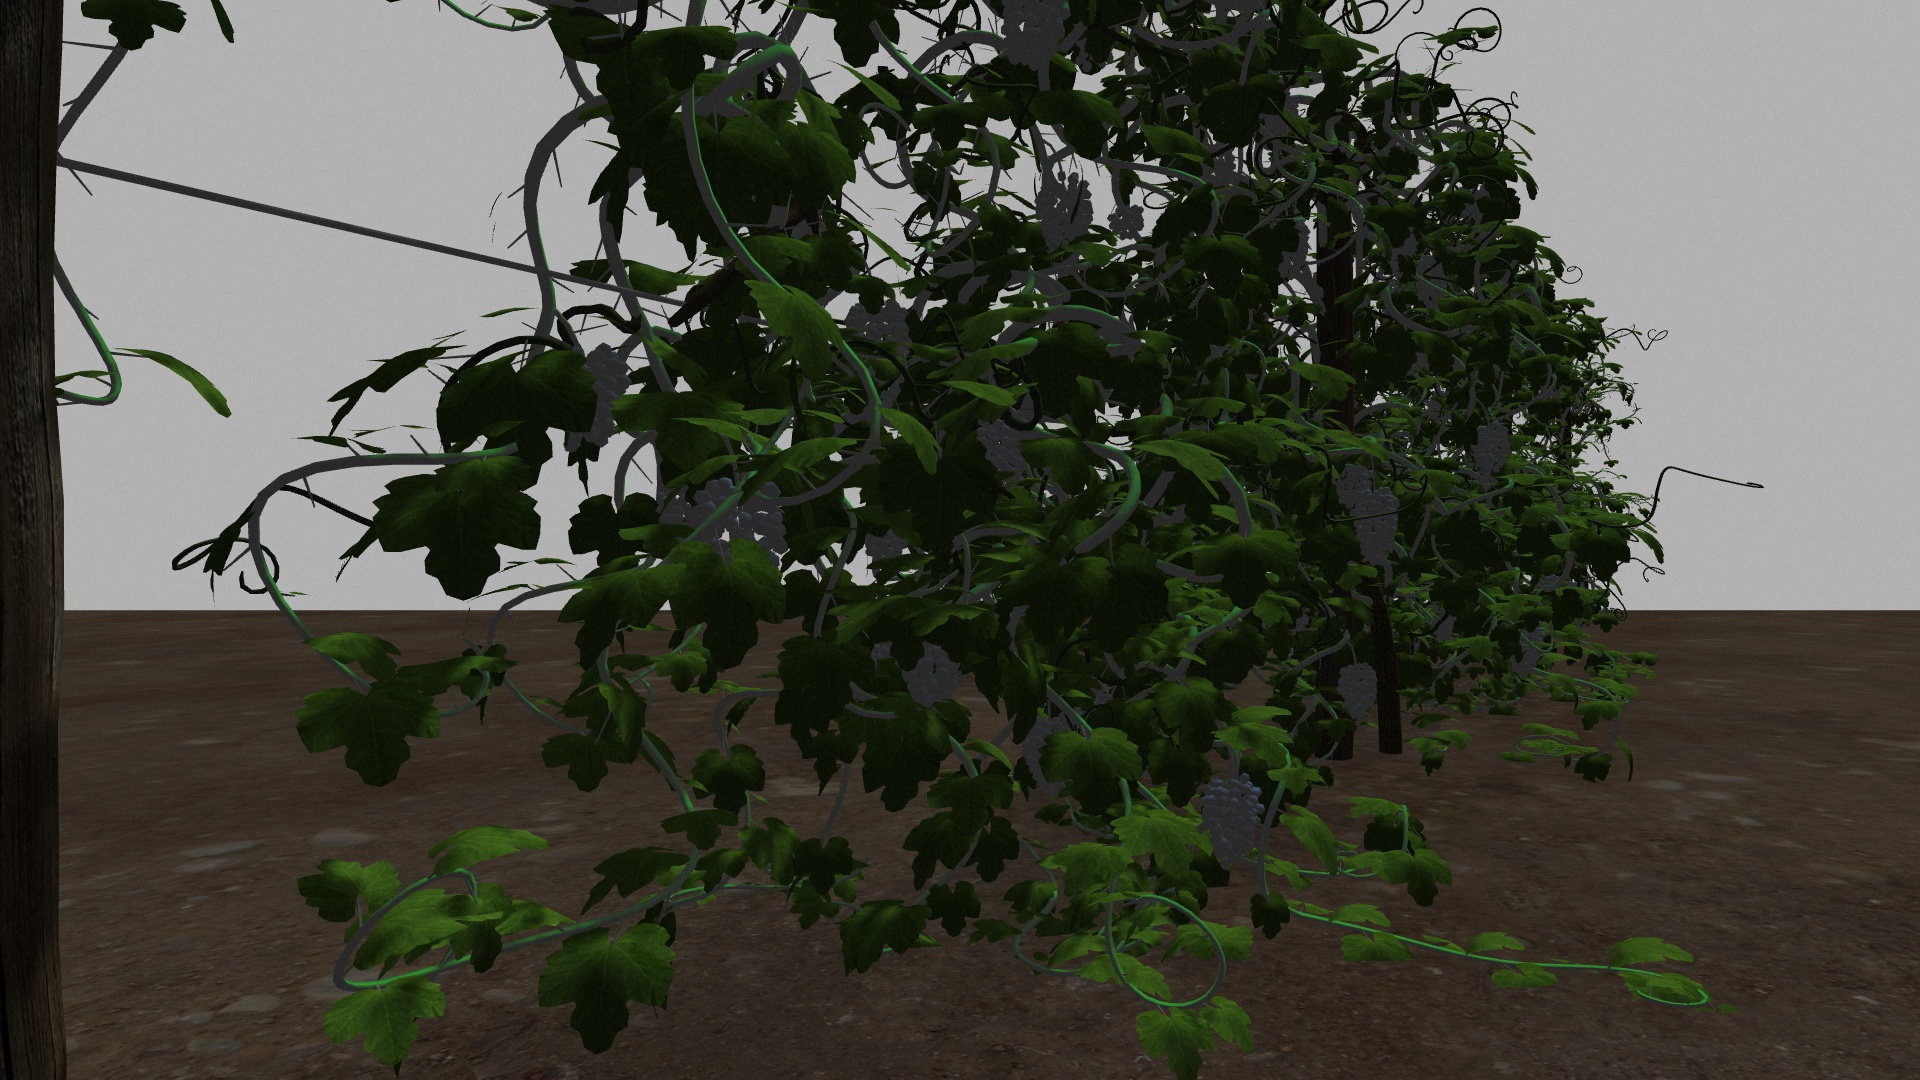grape: (694, 471, 785, 550), (566, 345, 629, 451), (1200, 771, 1266, 872), (1033, 170, 1095, 247), (1000, 7, 1069, 70), (980, 402, 1036, 479), (899, 636, 957, 709), (847, 299, 911, 365), (1356, 488, 1399, 564), (1337, 663, 1379, 723), (1279, 219, 1309, 280), (1335, 464, 1373, 512), (1415, 255, 1447, 310), (1513, 624, 1544, 679), (1203, 145, 1238, 190), (1108, 204, 1149, 241), (1476, 425, 1499, 480), (1493, 421, 1510, 473), (1431, 611, 1456, 644)
